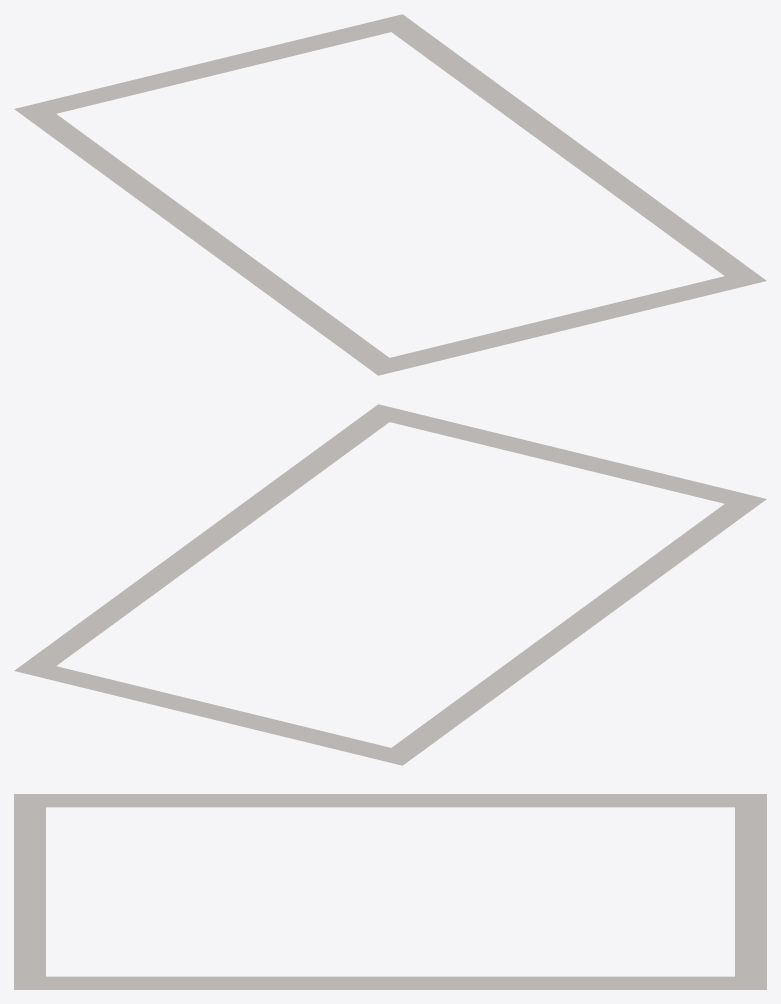
Rendered from kd_stage_135ded_4_28_exterior_piece_9.glb.
3 renders of one model, top to bottom at view 1: azimuth 30°, elevation 25°; view 2: azimuth 150°, elevation 25°; view 3: azimuth 270°, elevation 25°, orthographic. The views are drawn at different scales.
Parts seen in each view (by area): view 1: kd_stage_135ded_4_28_exterior_piece_9; view 2: kd_stage_135ded_4_28_exterior_piece_9; view 3: kd_stage_135ded_4_28_exterior_piece_9.
Part boxes in pixels (box(x1,y1,x2,y2)): kd_stage_135ded_4_28_exterior_piece_9: box(14, 14, 766, 375); kd_stage_135ded_4_28_exterior_piece_9: box(14, 404, 766, 765); kd_stage_135ded_4_28_exterior_piece_9: box(14, 794, 766, 989).
Size of the model in its own units: 1.31 by 0 by 2.12.
Materials: 1 (1 with a texture image).
